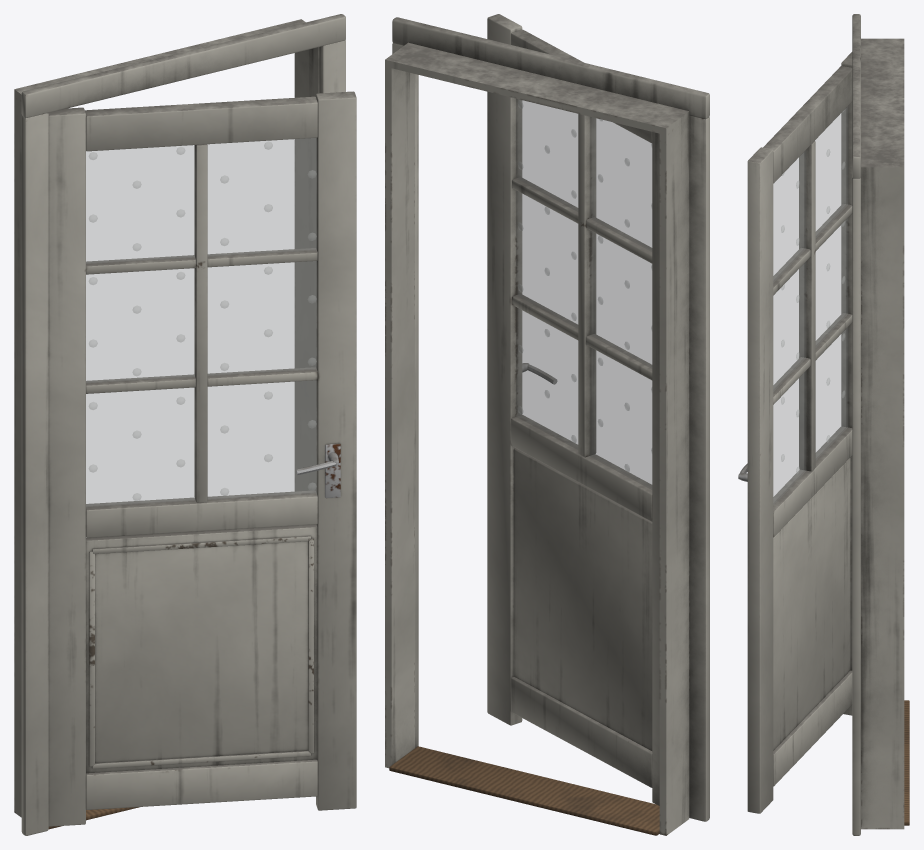
File: SM_Door_Interior_Glass.fbx
The picture shows the model from 3 angles, left to right: view 1: azimuth 30°, elevation 25°; view 2: azimuth 150°, elevation 25°; view 3: azimuth 270°, elevation 25°; orthographic projection. The views are drawn at different scales.
Visible parts, largest first — view 1: SM_Door_Interior_Glass; view 2: SM_Door_Interior_Glass; view 3: SM_Door_Interior_Glass.
Part boxes in pixels (x1,y1,x2,y2): SM_Door_Interior_Glass: [14, 14, 356, 835]; SM_Door_Interior_Glass: [385, 14, 709, 835]; SM_Door_Interior_Glass: [738, 14, 909, 835].
Bounding box in the file's own units: 0.94 × 2.08 × 0.4745.
Materials: 2 (1 with a texture image).
